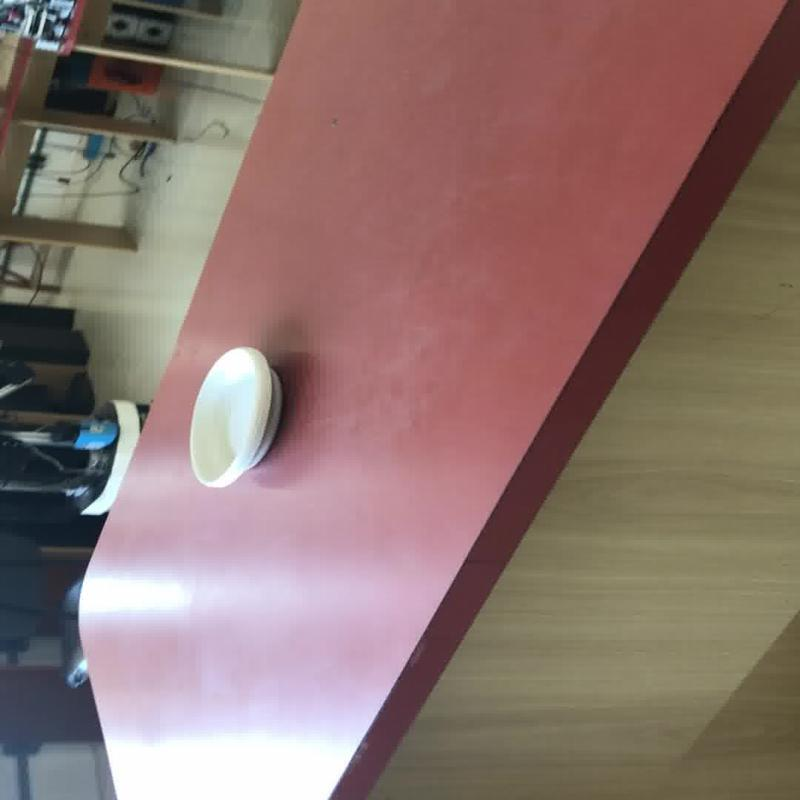plate: (187, 345, 283, 488)
